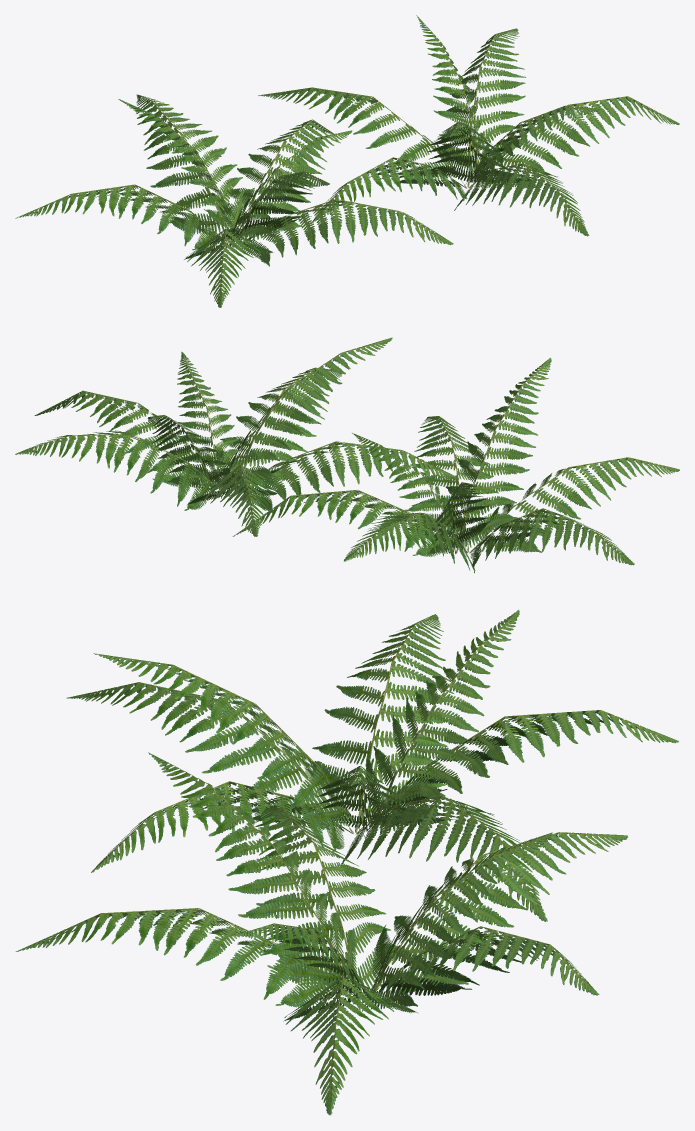
File: Plants-02.fbx
The picture shows the model from 3 angles, top to bottom: view 1: azimuth 30°, elevation 25°; view 2: azimuth 150°, elevation 25°; view 3: azimuth 270°, elevation 25°; orthographic projection. The views are drawn at different scales.
Parts seen in each view (by area): view 1: Plants-02; view 2: Plants-02; view 3: Plants-02.
Boxes of the visible parts, x1,y1,x2,y2 form: Plants-02: (15, 15, 679, 307); Plants-02: (15, 337, 679, 573); Plants-02: (15, 610, 678, 1115).
Bounding box in the file's own units: 356 × 68.52 × 221.
